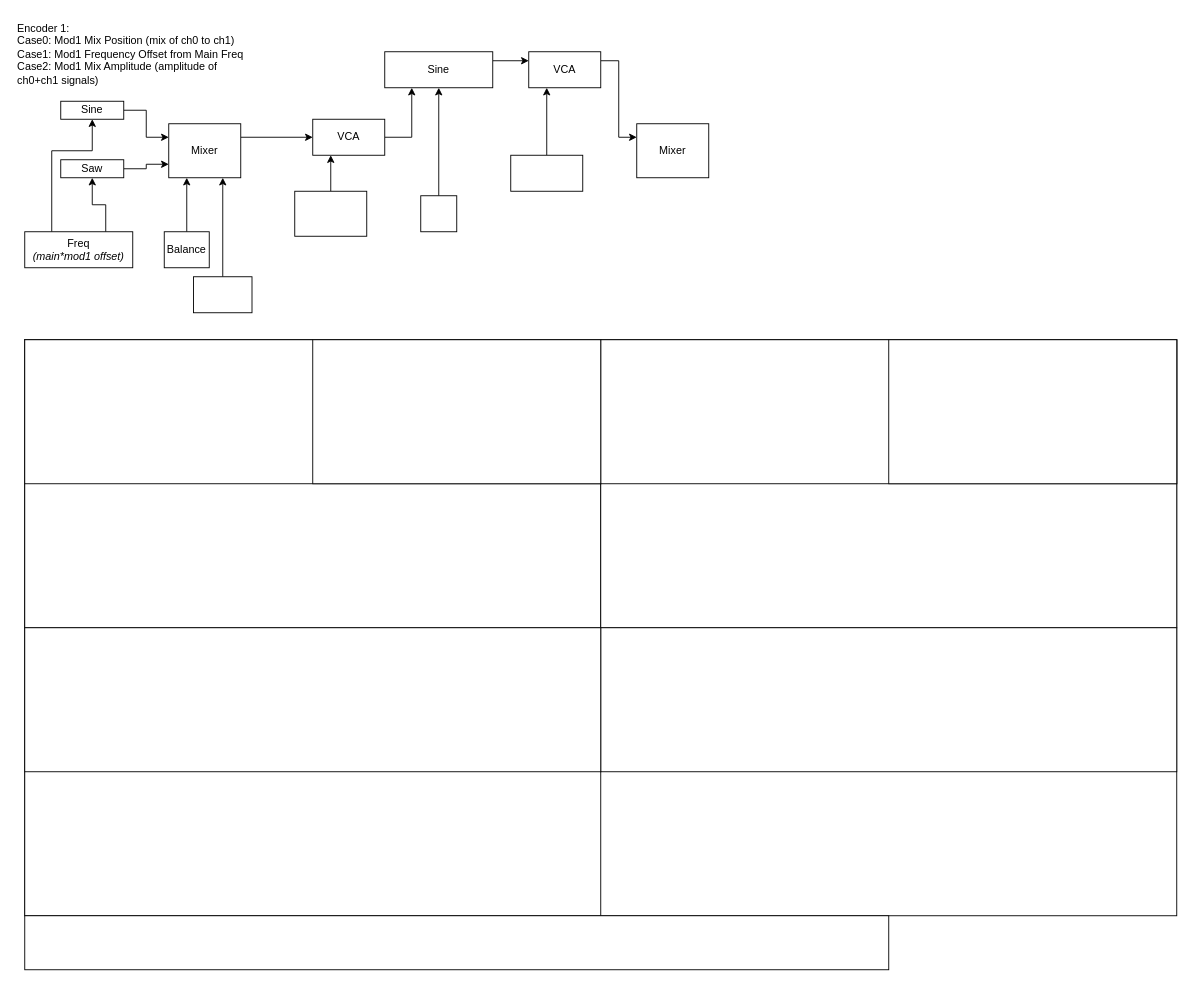
The diagram is 1193 pixels wide and 986 high, and some of its shapes have lost their labels. Here are the shapes that lost their labels. From the top down, the box of each, then its label:
(510, 154, 583, 191): DC (osc1_amp)
(294, 190, 367, 236): DC (pS1*mod1 Amplitude)
(420, 195, 457, 232): Freq (main)
(193, 276, 252, 313): Amplitude
